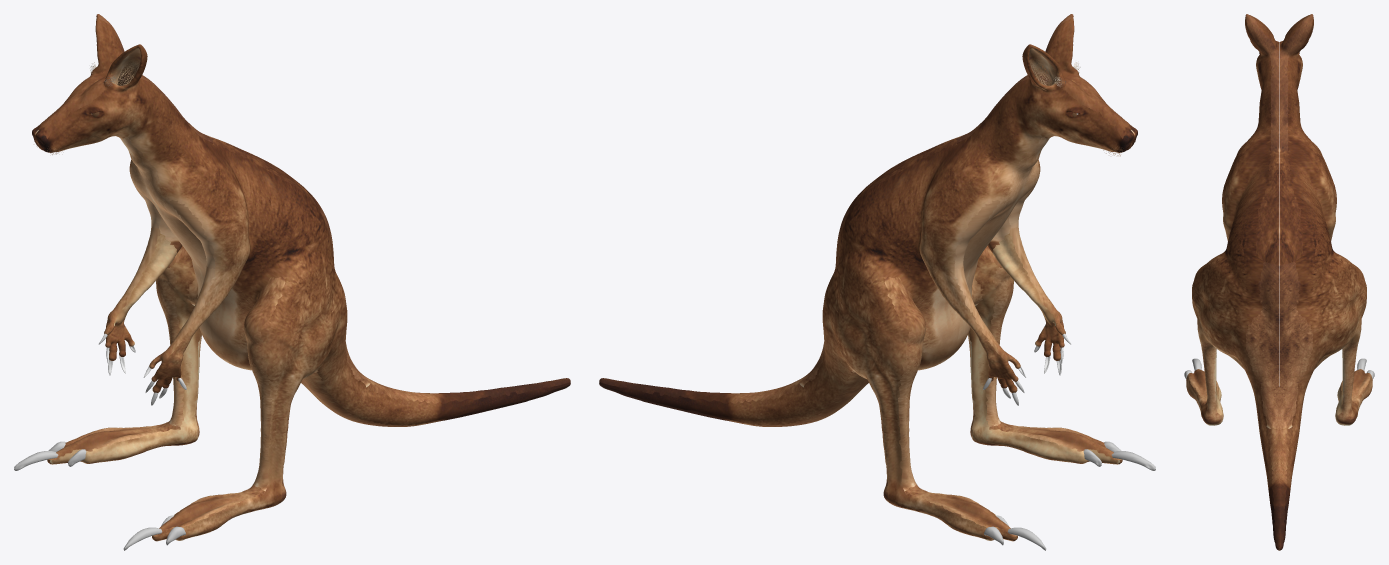
The model's file is kangaroo.fbx.
The picture shows the model from 3 angles, left to right: view 1: azimuth 30°, elevation 25°; view 2: azimuth 150°, elevation 25°; view 3: azimuth 270°, elevation 25°; orthographic projection. The views are drawn at different scales.
Visible parts, largest first — view 1: 01kangaroo; view 2: 01kangaroo; view 3: 01kangaroo.
Boxes of the visible parts, box(x1,y1,x2,y2) form: 01kangaroo: box(32, 14, 570, 541); 01kangaroo: box(599, 14, 1137, 541); 01kangaroo: box(1186, 14, 1372, 550).
Size of the model in its own units: 443 by 373 by 174.
